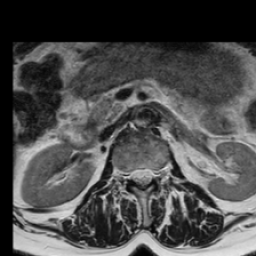CCS_normal: (138, 161, 145, 195)
LFS_normal: (153, 162, 161, 186)
LLS_normal: (145, 162, 153, 188)
RFS_normal: (122, 163, 130, 188)
RLS_normal: (130, 162, 138, 187)
